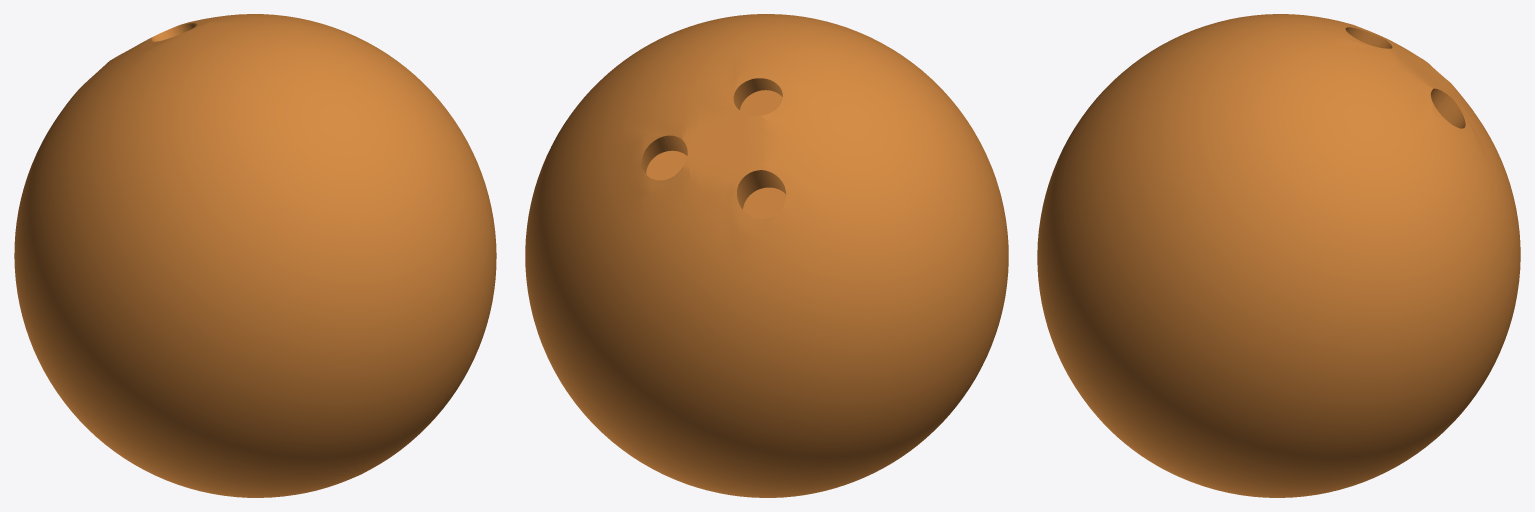
The model's file is Orange_Bowling_Ball.fbx.
3 views of the same model, side by side, from view 1: azimuth 30°, elevation 25°; view 2: azimuth 150°, elevation 25°; view 3: azimuth 270°, elevation 25° (orthographic).
Visible parts, largest first — view 1: Sphere; view 2: Sphere; view 3: Sphere.
Boxes of the visible parts, x1,y1,x2,y2 form: Sphere: (14, 14, 496, 497); Sphere: (525, 14, 1008, 497); Sphere: (1037, 14, 1520, 497).
Size of the model in its own units: 1.98 by 1.98 by 1.98.
